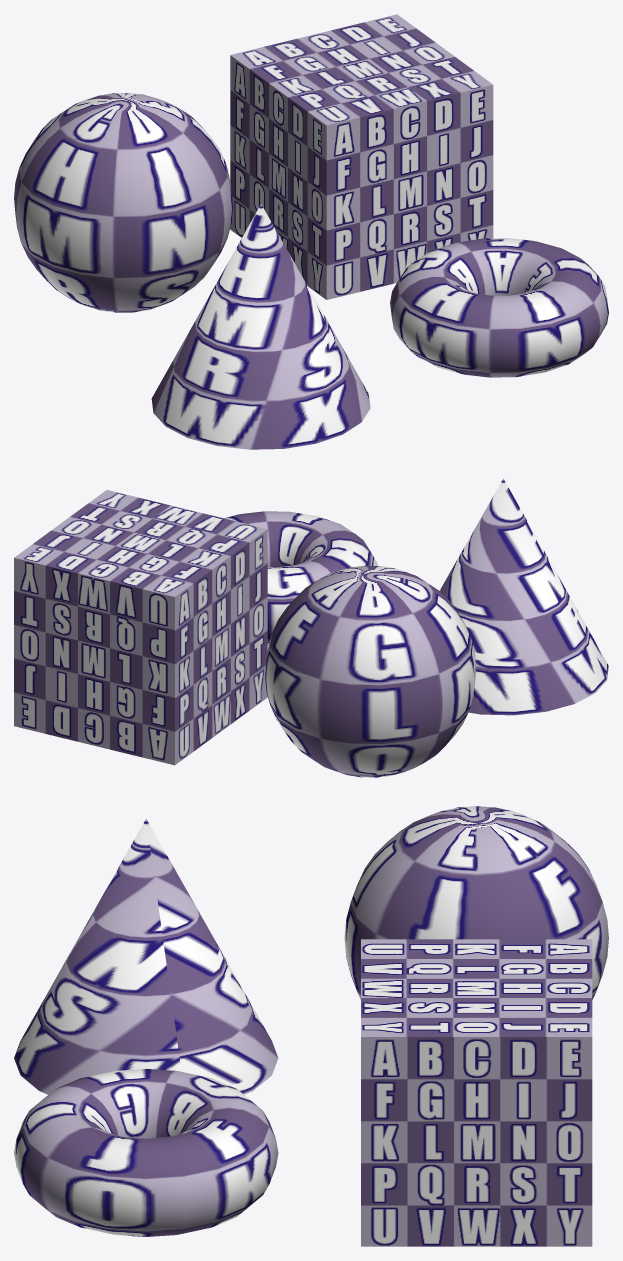
File: poly_tex.fbx
3 views of the same model, one above another, from view 1: azimuth 30°, elevation 25°; view 2: azimuth 150°, elevation 25°; view 3: azimuth 270°, elevation 25° (orthographic). The views are drawn at different scales.
Parts seen in each view (by area): view 1: pCube1, pSphere1, pCone1, pTorus1; view 2: pCube1, pSphere1, pCone1, pTorus1; view 3: pCube1, pCone1, pTorus1, pSphere1.
Boxes of the visible parts, box(x1,y1,x2,y2) form: pCube1: box(230, 14, 493, 299); pSphere1: box(14, 93, 232, 312); pCone1: box(151, 204, 370, 449); pTorus1: box(390, 238, 608, 377); pCube1: box(14, 490, 267, 765); pSphere1: box(265, 565, 476, 777); pCone1: box(439, 478, 608, 715); pTorus1: box(224, 511, 377, 645); pCube1: box(361, 939, 592, 1246); pCone1: box(14, 819, 278, 1094); pTorus1: box(14, 1068, 278, 1236); pSphere1: box(344, 806, 608, 999).
Size of the model in its own units: 9 by 4 by 9.
1 material, 1 textured.
